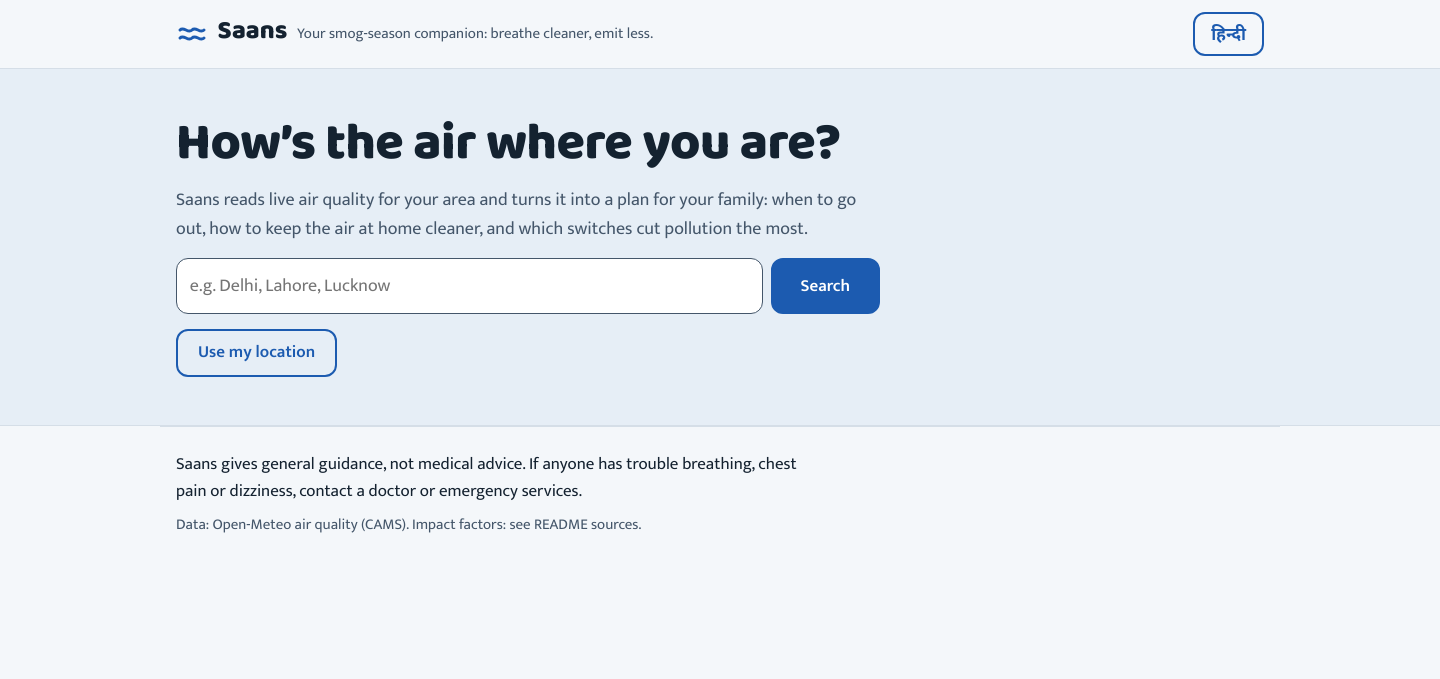
it: App: location › names "Use my location" with the real place, and falls back to coordinates
Later steps or results of the test are not shown.
Click the button "Use my location".
click(257, 353)  # box [176, 329, 337, 377]
(page scrolled)
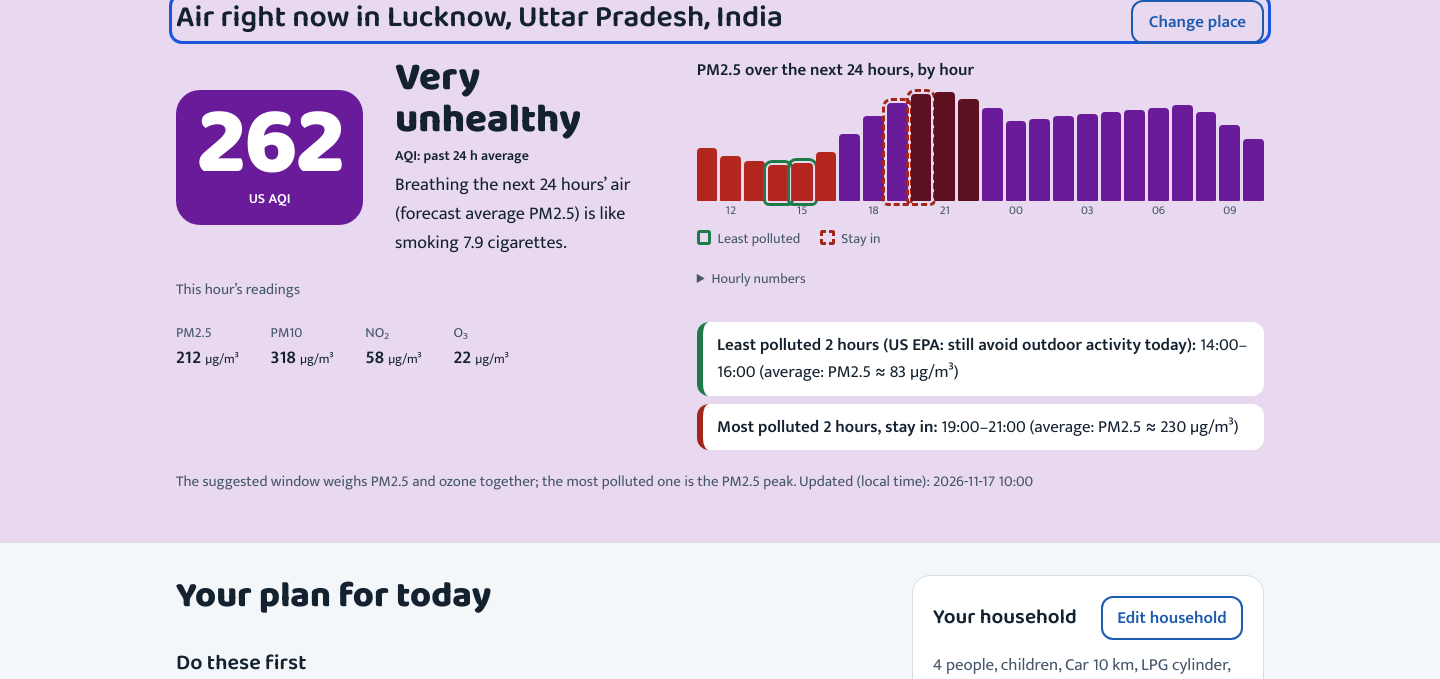
Expected: the button "my location" is gone
